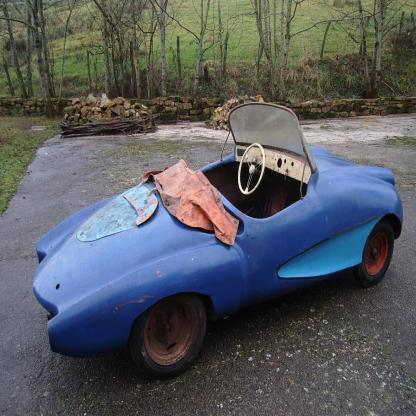Car: (33, 103, 405, 381)
